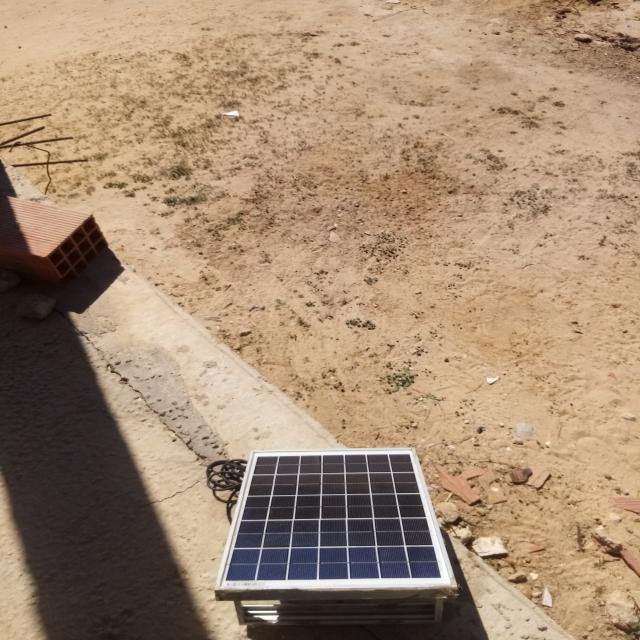no faulty: (217, 451, 457, 594)
